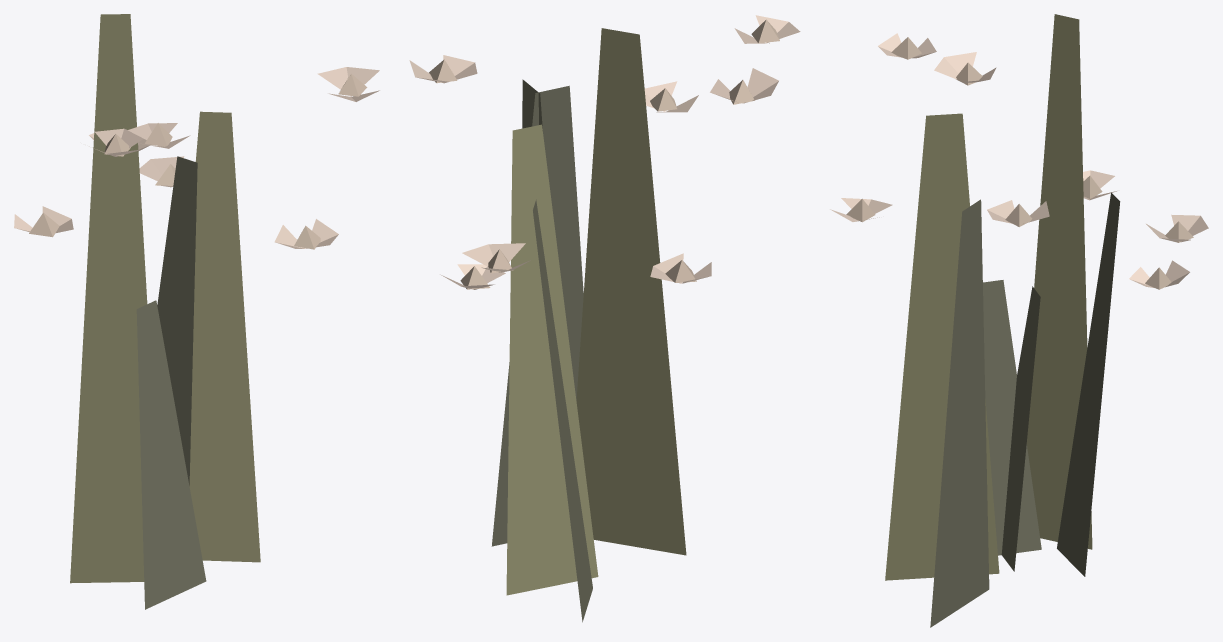
Rendered from nong.mai@flowering__winter.glb.
3 renders of one model, left to right at view 1: azimuth 30°, elevation 25°; view 2: azimuth 150°, elevation 25°; view 3: azimuth 270°, elevation 25°, orthographic. The views are drawn at different scales.
Parts seen in each view (by area): view 1: nong.mai@flowering__winter; view 2: nong.mai@flowering__winter; view 3: nong.mai@flowering__winter.
Boxes of the visible parts, x1=… form: nong.mai@flowering__winter: x1=14, y1=14, x2=379, y2=609; nong.mai@flowering__winter: x1=409, y1=15, x2=800, y2=622; nong.mai@flowering__winter: x1=830, y1=14, x2=1208, y2=627.
Size of the model in its own units: 0.556 by 0.894 by 0.5986.
